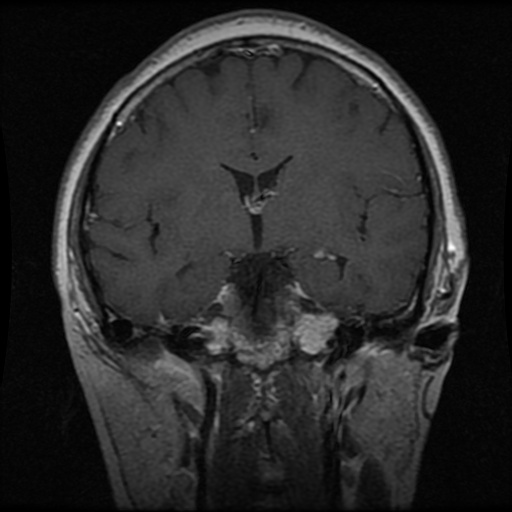pituitary: (218, 283, 242, 317)
